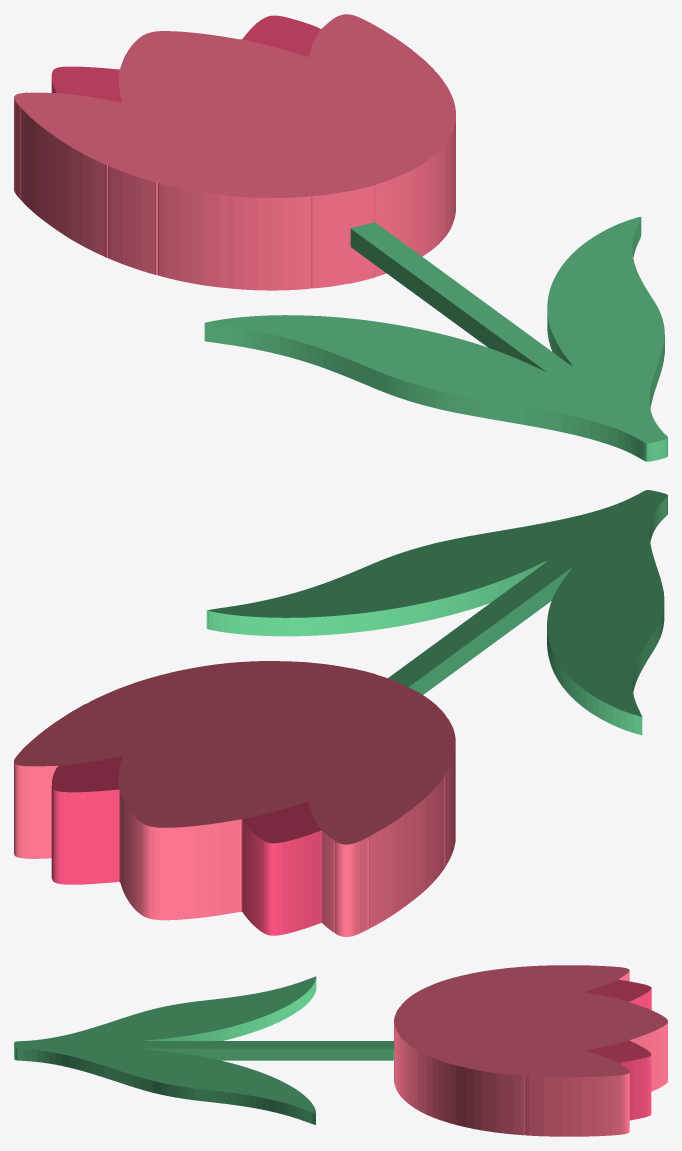
File: flor.gltf
The picture shows the model from 3 angles, top to bottom: view 1: azimuth 30°, elevation 25°; view 2: azimuth 150°, elevation 25°; view 3: azimuth 270°, elevation 25°; orthographic projection. The views are drawn at different scales.
Parts seen in each view (by area): view 1: Node1, Node2, Node3, Node4; view 2: Node1, Node2, Node3, Node4; view 3: Node1, Node2, Node4, Node3.
Boxes of the visible parts, x1=… form: Node1: x1=14, y1=14, x2=455, y2=290; Node2: x1=204, y1=217, x2=667, y2=461; Node3: x1=51, y1=66, x2=122, y2=102; Node4: x1=242, y1=15, x2=320, y2=56; Node1: x1=14, y1=661, x2=455, y2=936; Node2: x1=206, y1=490, x2=667, y2=735; Node3: x1=241, y1=801, x2=321, y2=935; Node4: x1=51, y1=756, x2=121, y2=884; Node1: x1=394, y1=965, x2=667, y2=1136; Node2: x1=14, y1=976, x2=394, y2=1124; Node4: x1=585, y1=1040, x2=651, y2=1120; Node3: x1=585, y1=979, x2=651, y2=1009.
Size of the model in its own units: 49.38 by 10 by 99.58.
